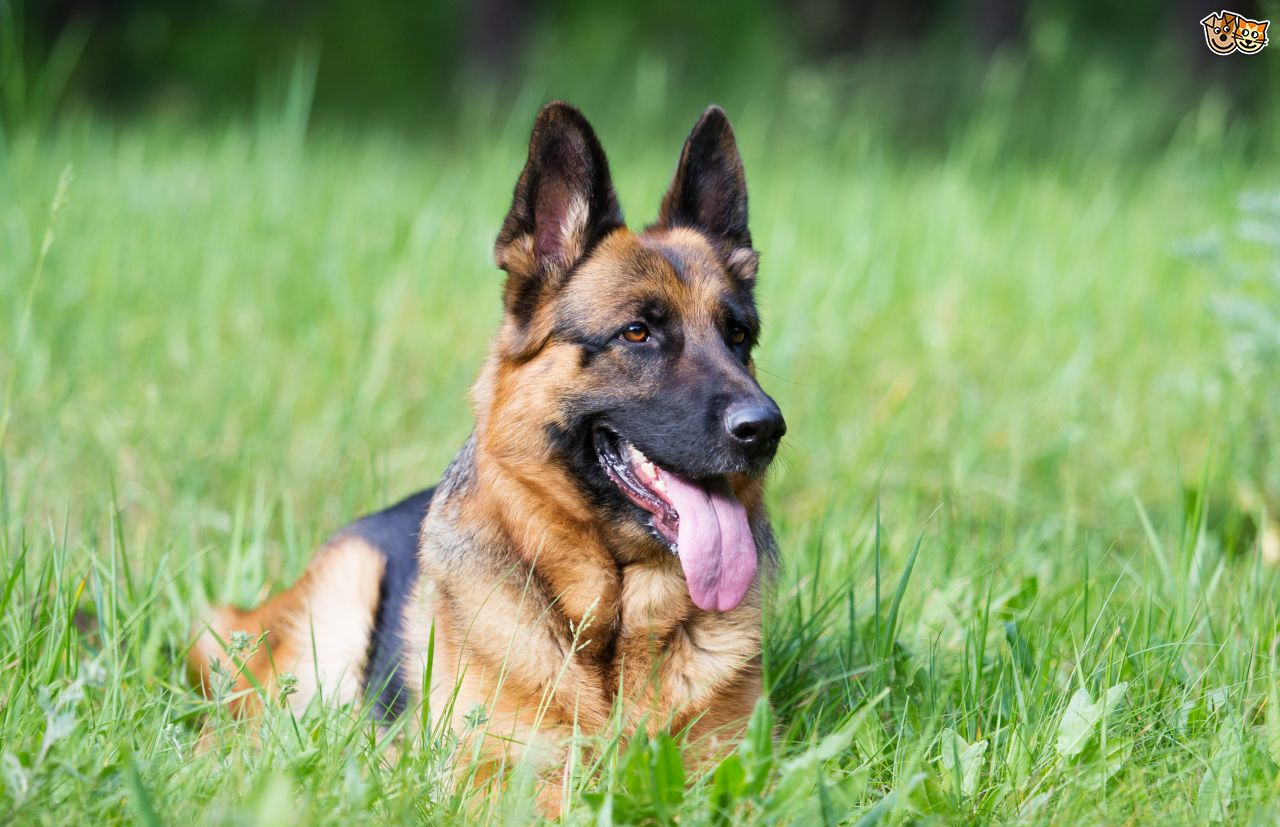dog: (184, 105, 786, 817)
